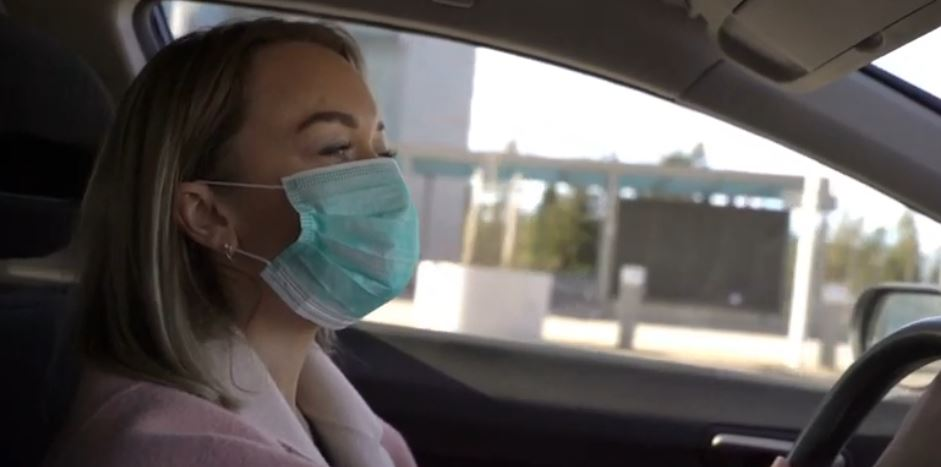with_mask: (302, 114, 428, 304)
